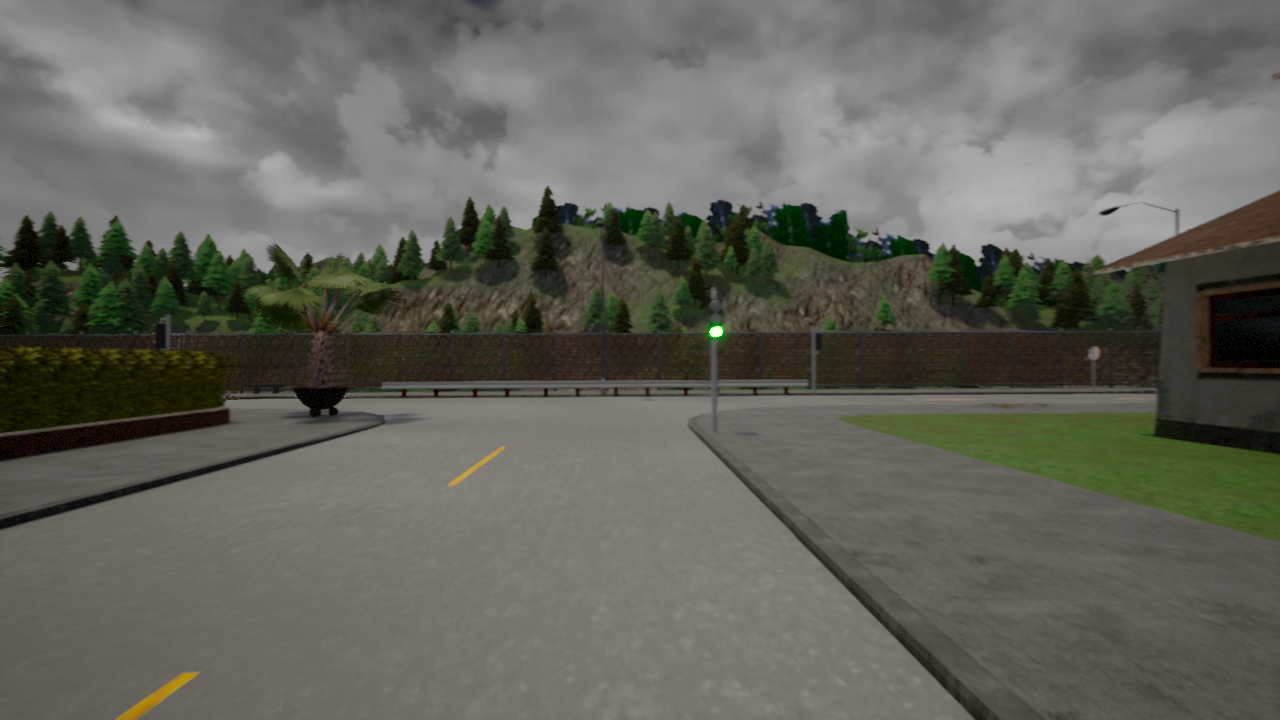green: (708, 298, 725, 339)
